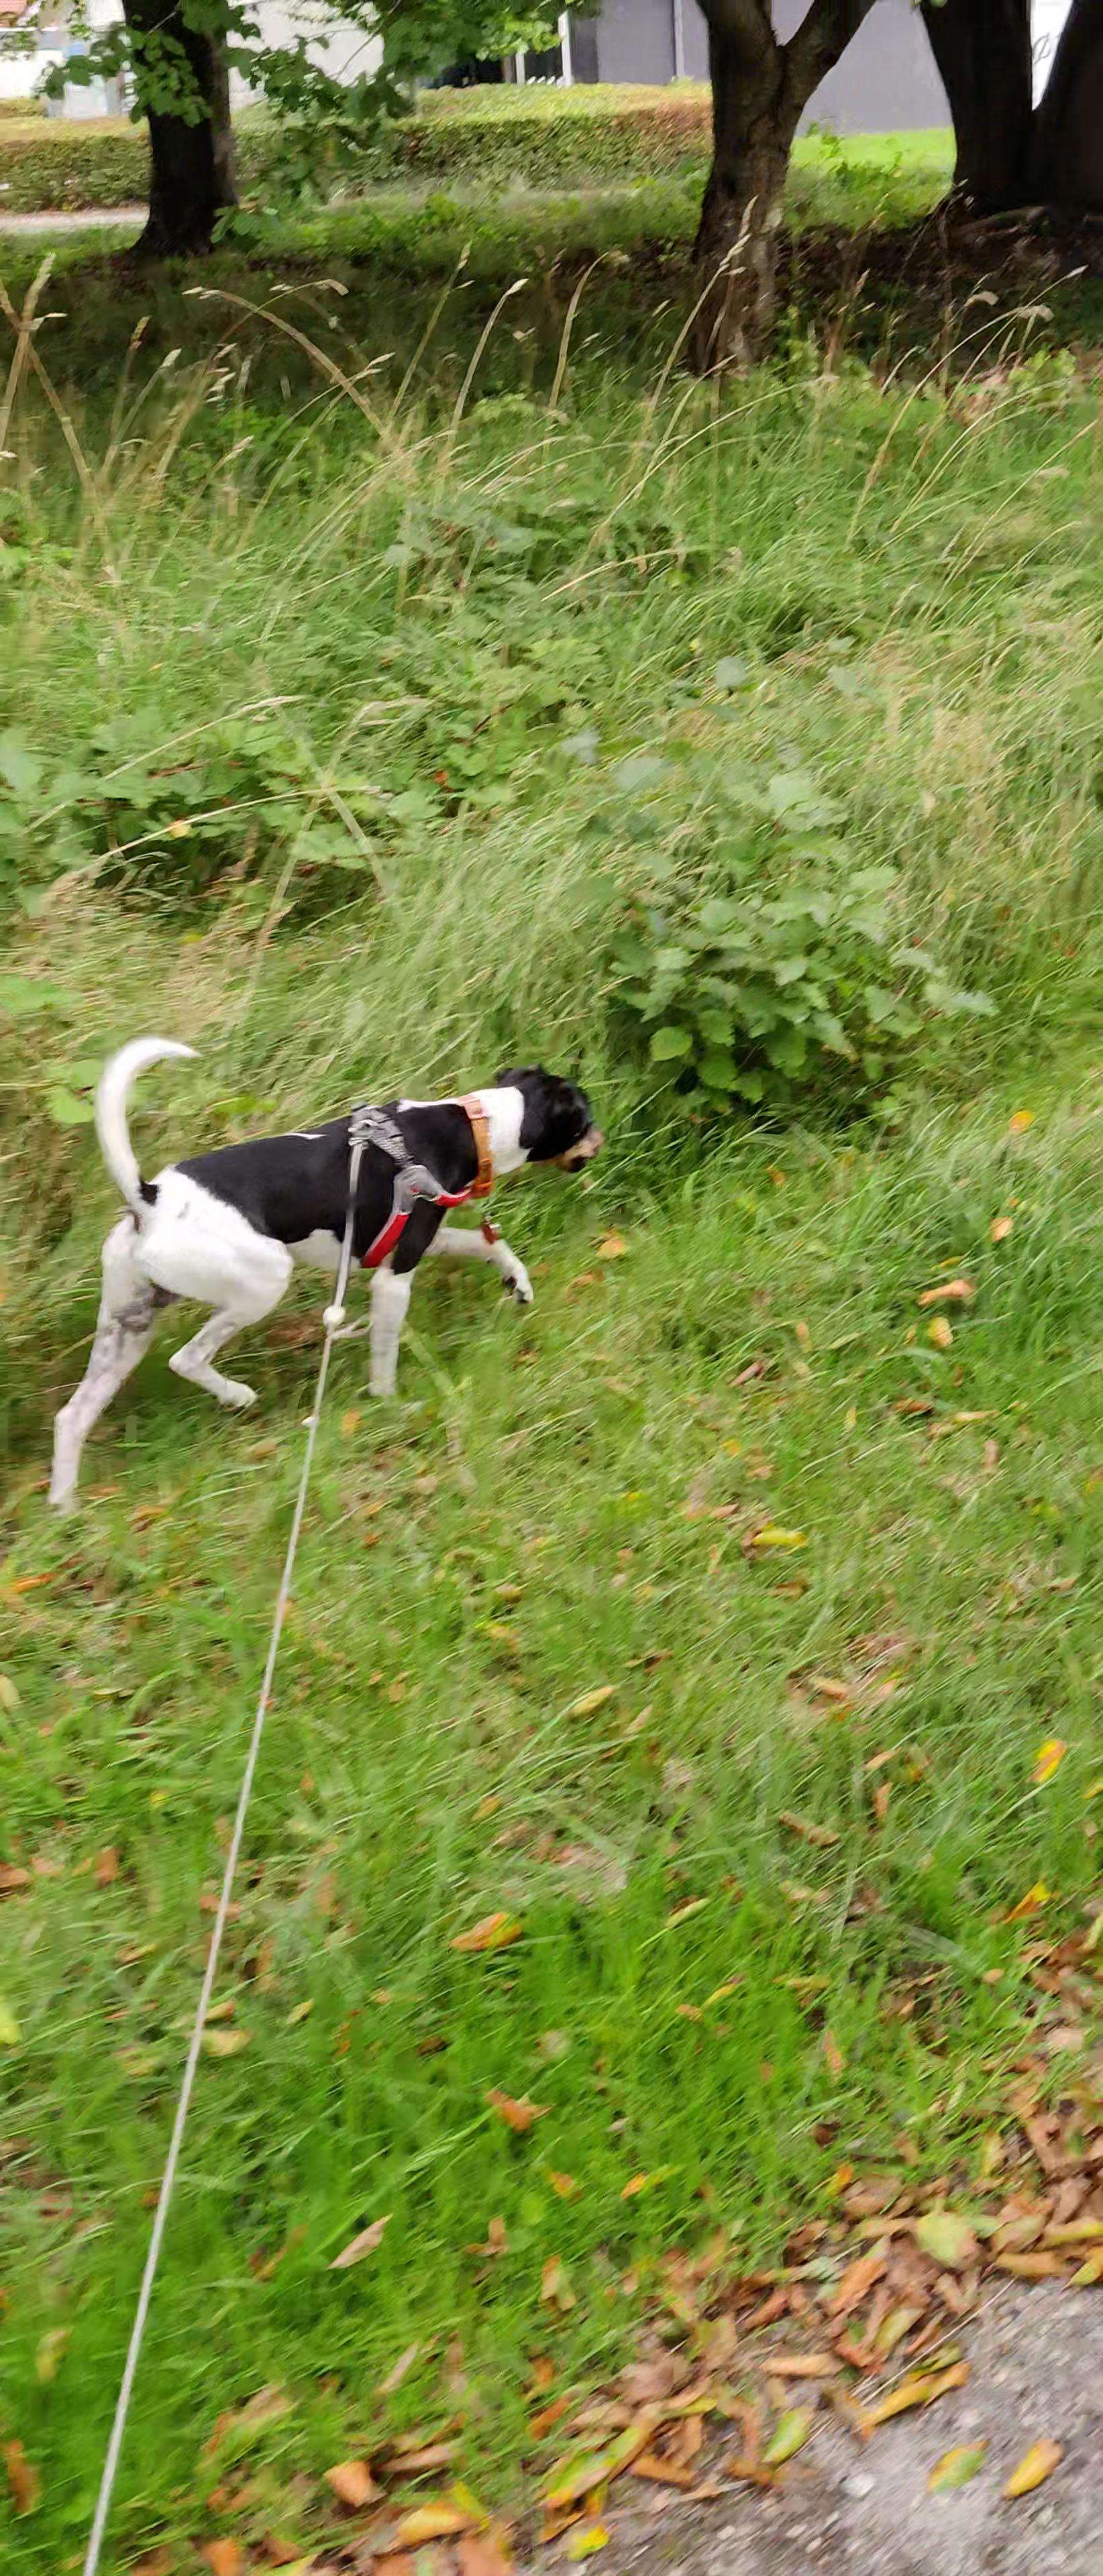Dog: (36, 1028, 613, 1516)
